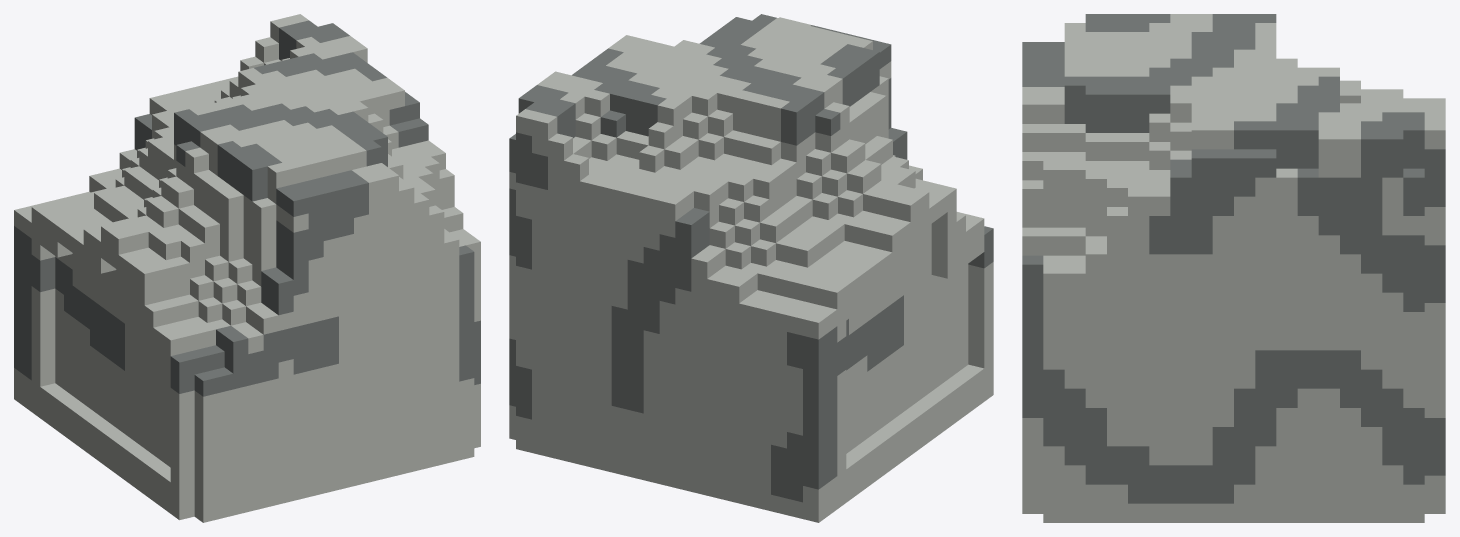
The model's file is marble-cracked.obj.
The picture shows the model from 3 angles, left to right: view 1: azimuth 30°, elevation 25°; view 2: azimuth 150°, elevation 25°; view 3: azimuth 270°, elevation 25°; orthographic projection. The views are drawn at different scales.
Visible parts, largest first — view 1: marble-cracked; view 2: marble-cracked; view 3: marble-cracked.
Boxes of the visible parts, x1,y1,x2,y2 form: marble-cracked: [14, 14, 480, 522]; marble-cracked: [509, 14, 993, 522]; marble-cracked: [1022, 14, 1445, 522].
Bounding box in the file's own units: 20 × 20 × 20.
Materials: 1 (1 with a texture image).
